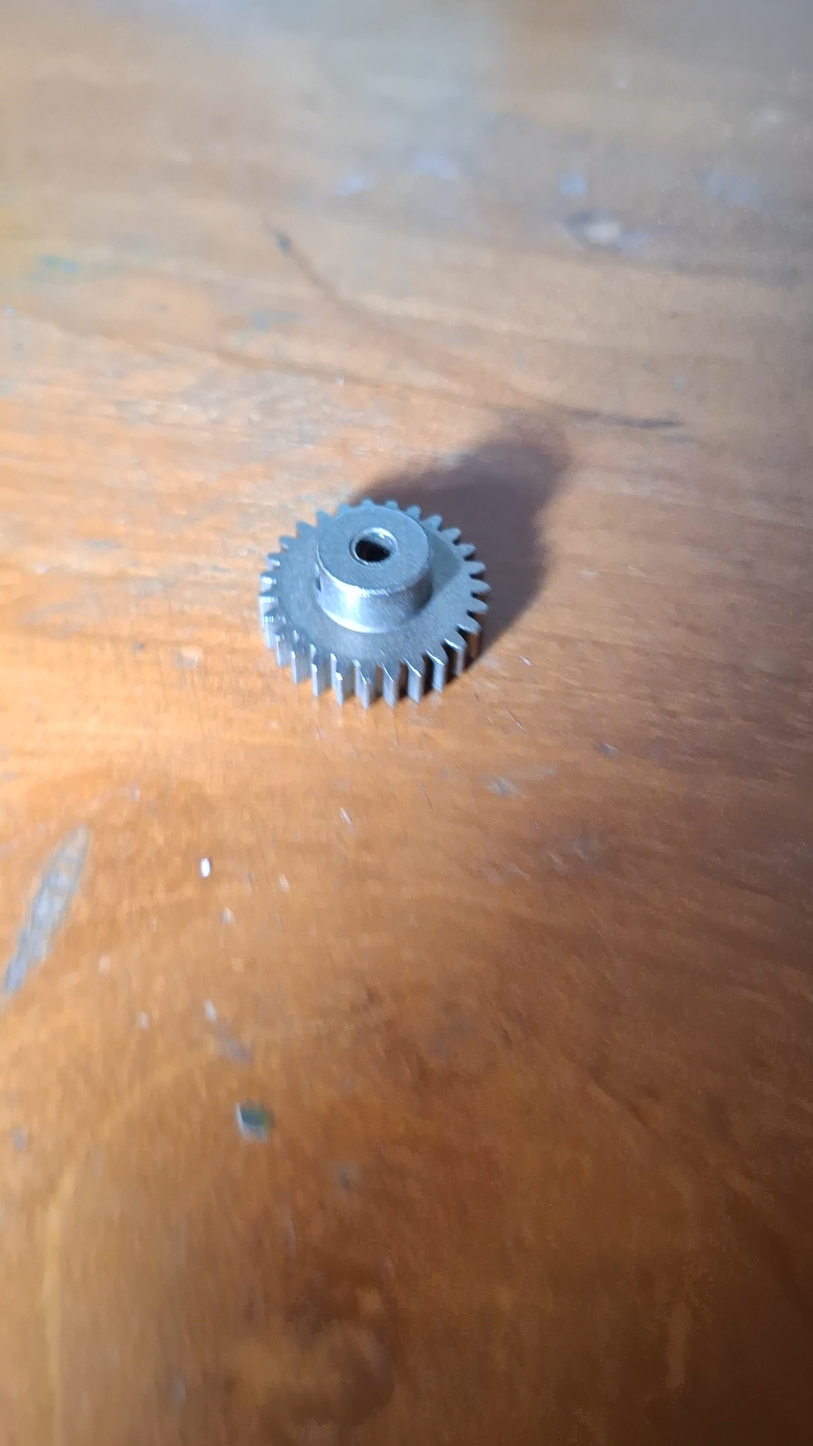spur gear: (259, 500, 488, 706)
